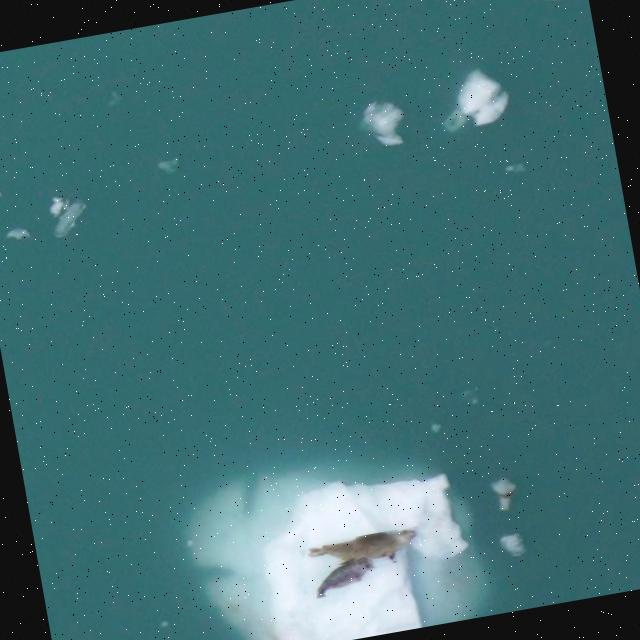seal: (306, 526, 423, 573), (308, 552, 377, 600)
